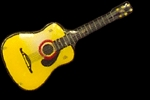guitar: (1, 1, 134, 93)
